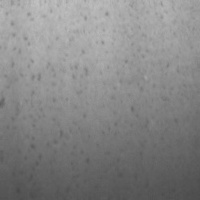pitted_surface: (2, 1, 92, 192), (102, 0, 184, 140)
